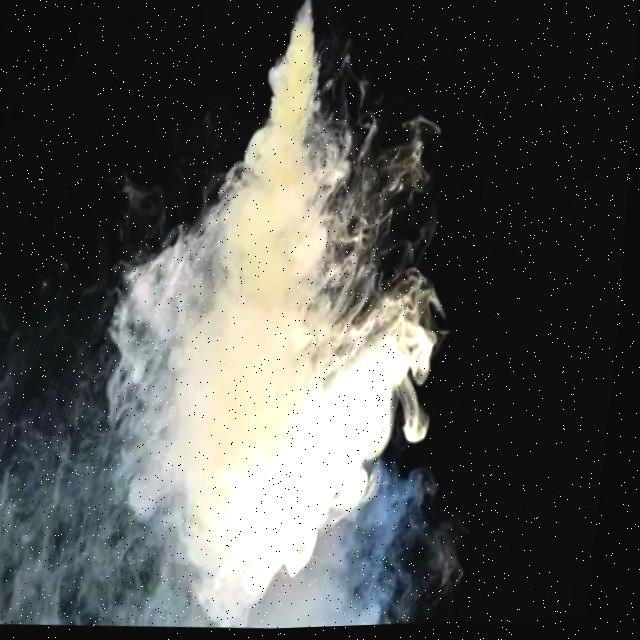Smoke: (75, 0, 528, 637)
